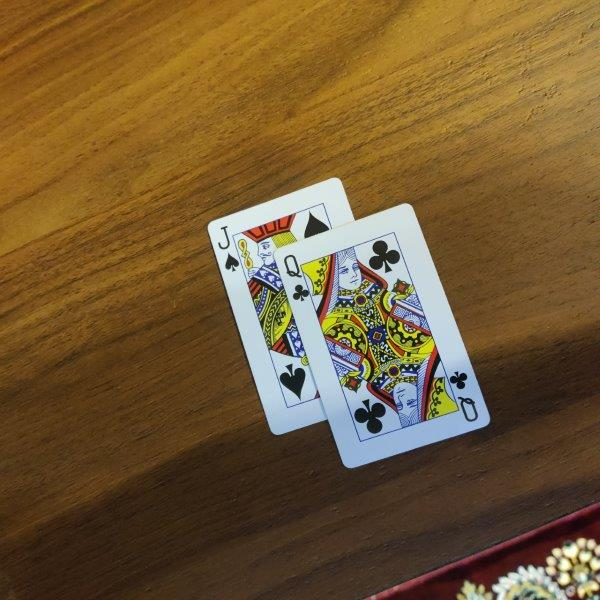Ace of Clubs: (274, 203, 492, 470)
Jack of Spades: (206, 176, 356, 435)
